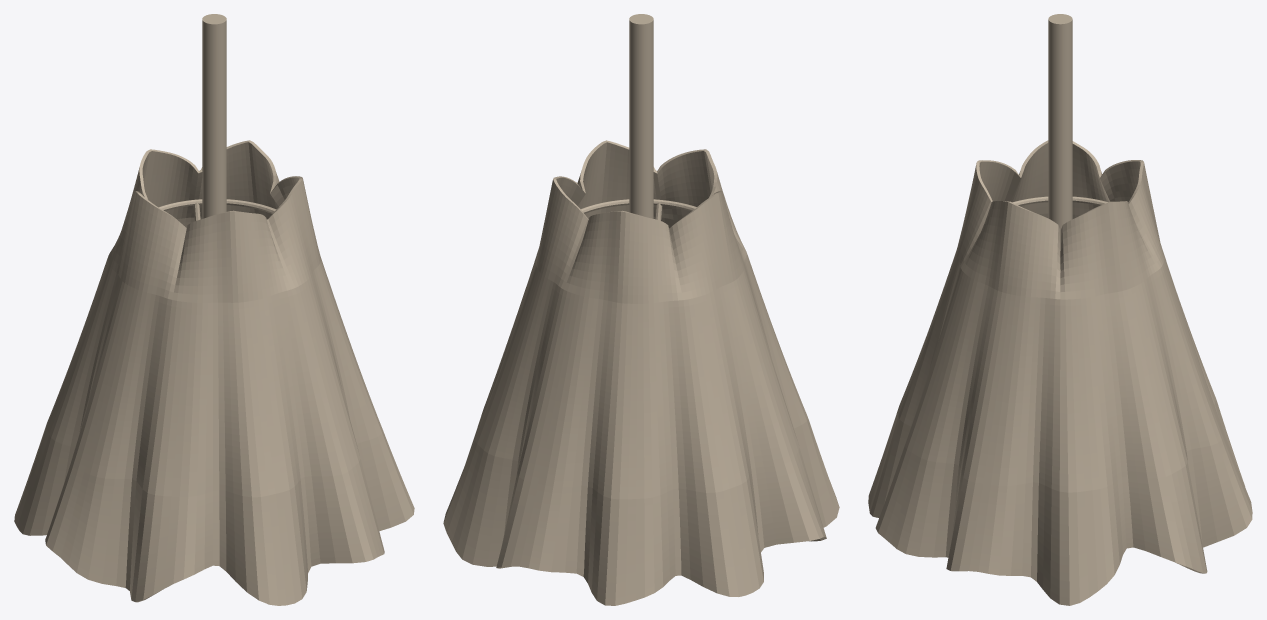
Rendered from 3dcodebench_CeilingClassicLamp_seed0.glb.
The picture shows the model from 3 angles, left to right: view 1: azimuth 30°, elevation 25°; view 2: azimuth 150°, elevation 25°; view 3: azimuth 270°, elevation 25°; orthographic projection.
Parts seen in each view (by area): view 1: object; view 2: object; view 3: object.
Boxes of the visible parts, bbox=[...] form: object: bbox=[14, 14, 414, 605]; object: bbox=[443, 14, 839, 605]; object: bbox=[868, 14, 1252, 605].
Bounding box in the file's own units: 0.6077 × 0.8633 × 0.5915.
